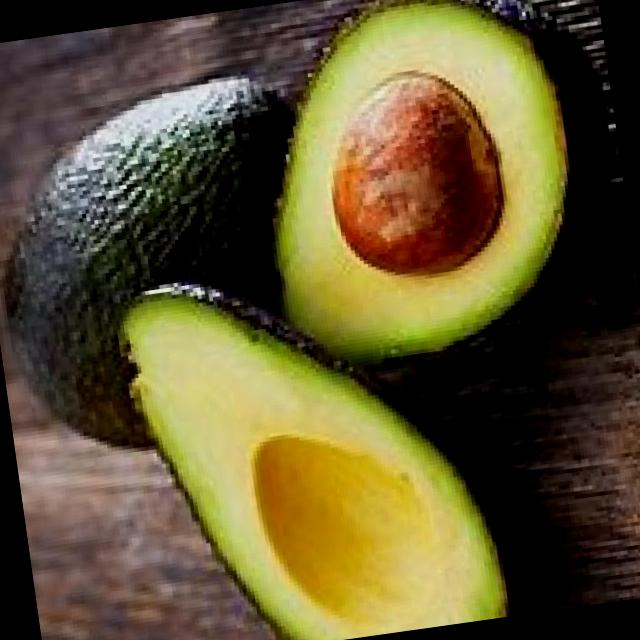avocado: (107, 246, 524, 640), (0, 61, 339, 477), (236, 0, 600, 372)
